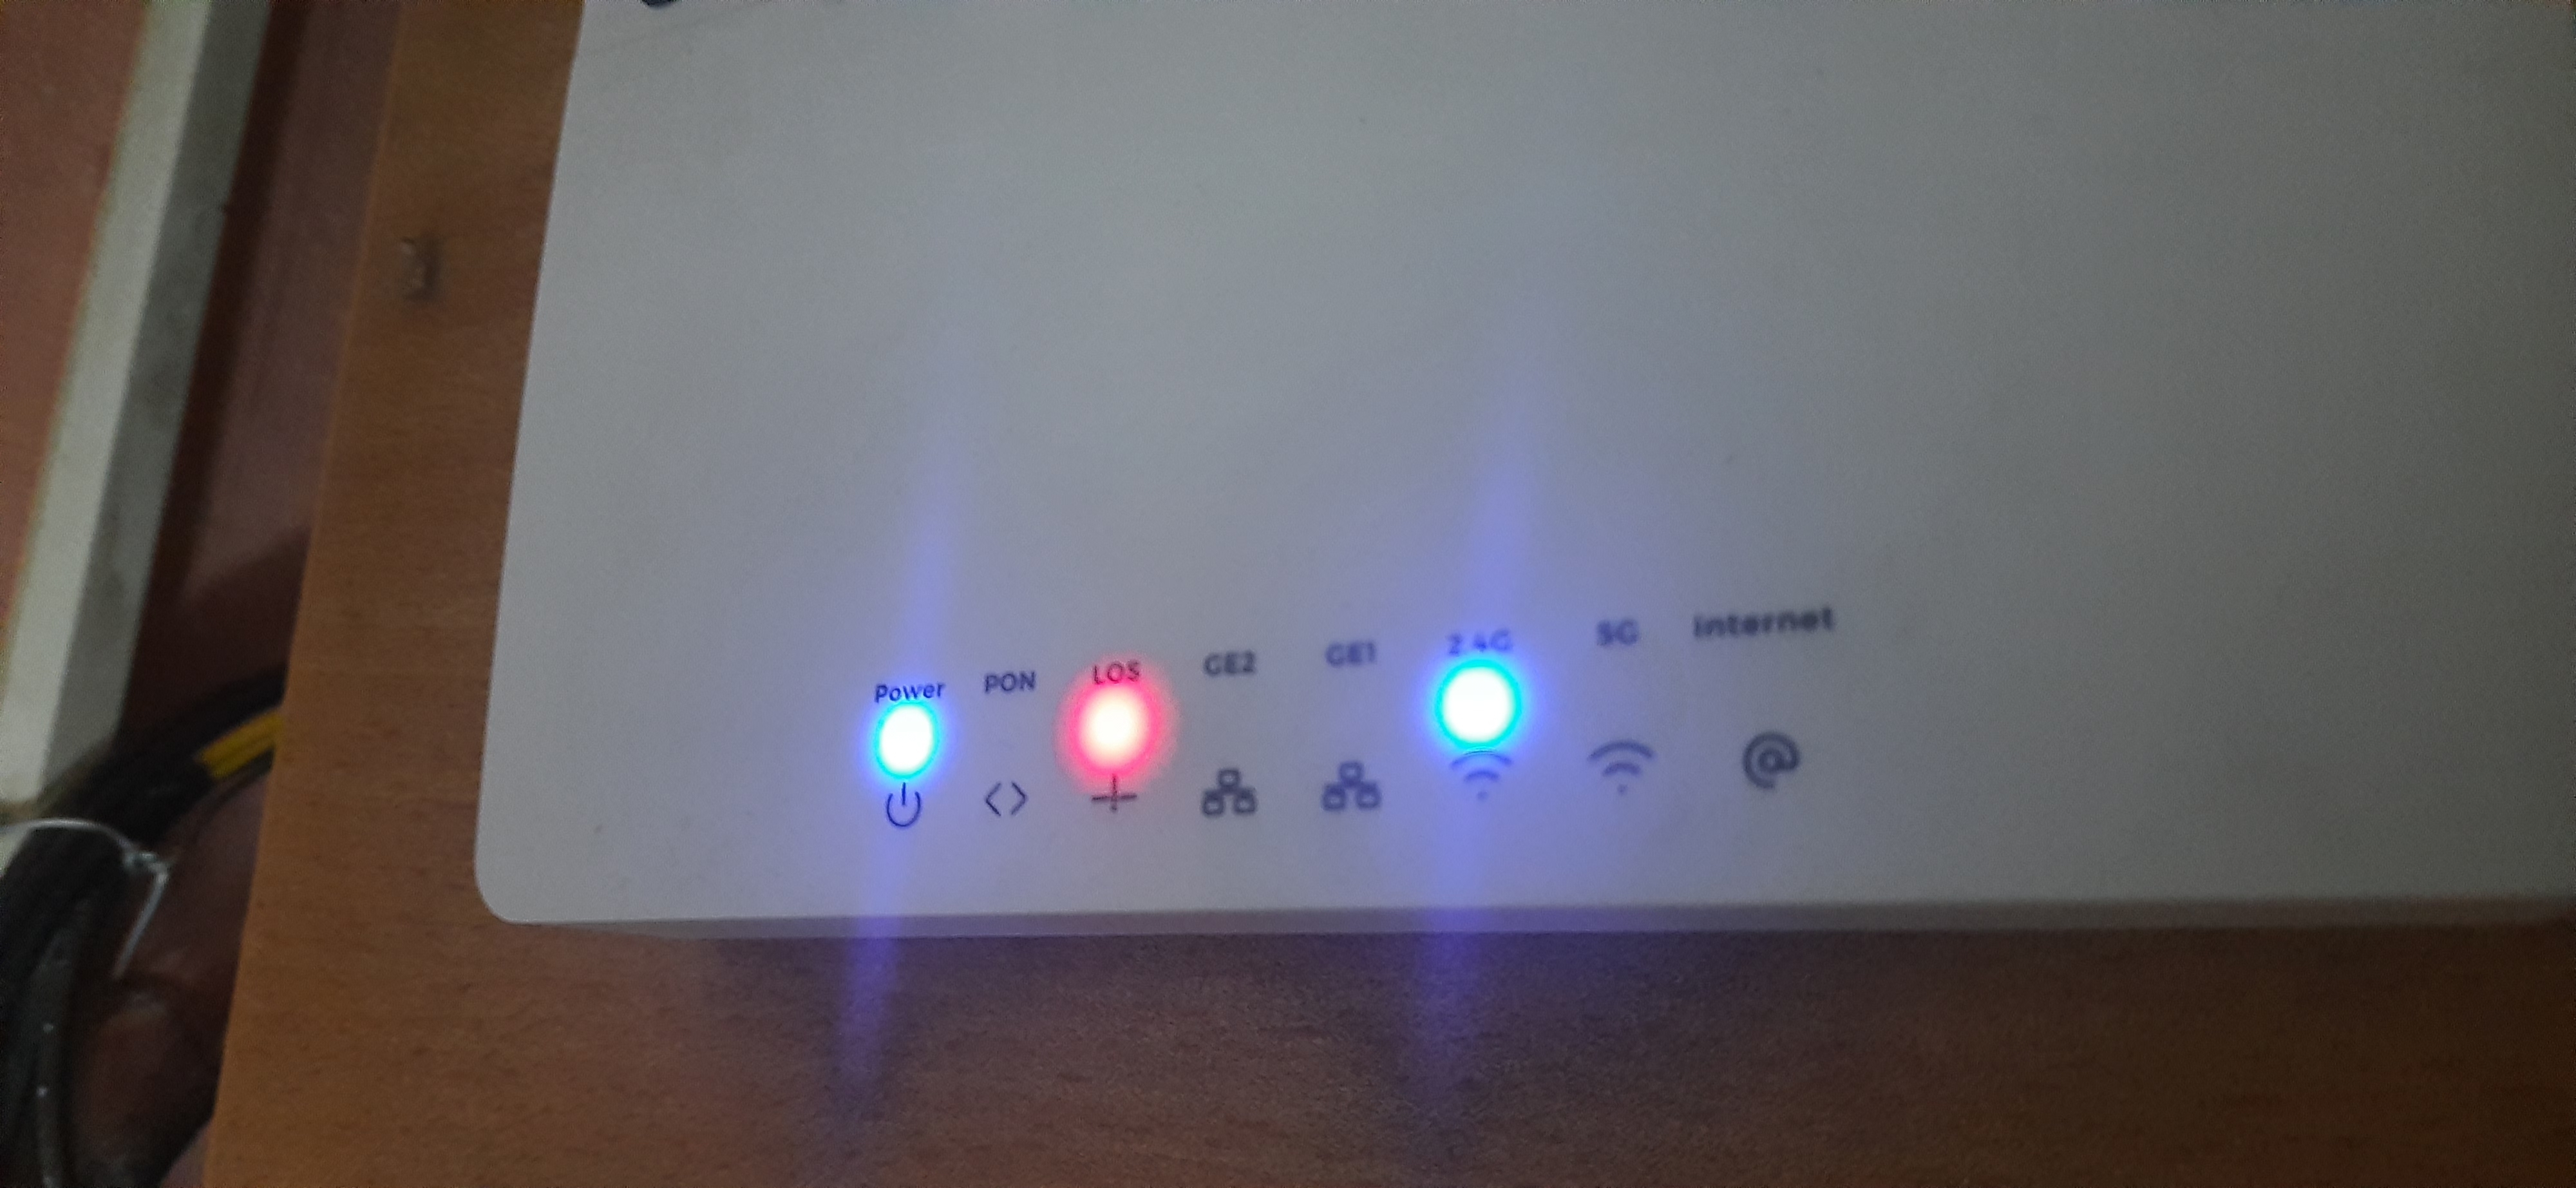LOSConnectionIssue: (1032, 626, 1193, 874)
